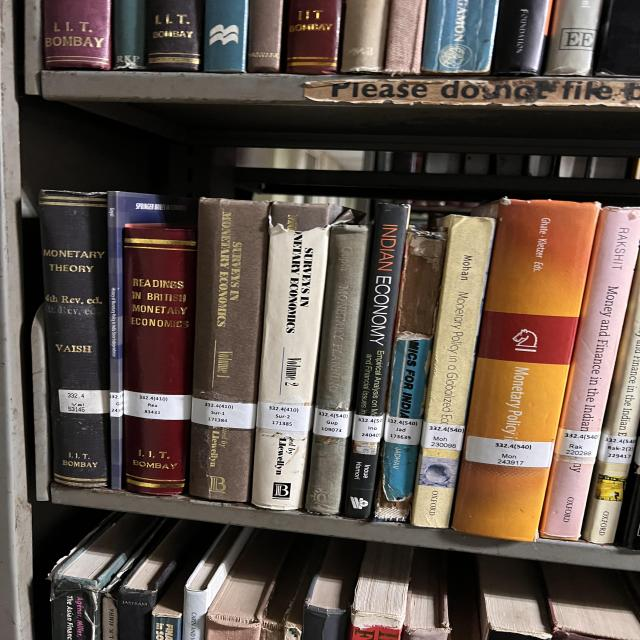Book: (453, 199, 600, 541), (540, 208, 640, 540), (107, 191, 197, 490), (412, 215, 495, 529), (188, 198, 270, 502), (252, 224, 330, 510), (343, 204, 410, 519), (40, 190, 110, 488), (123, 224, 197, 495), (305, 224, 370, 514), (382, 229, 447, 505), (582, 262, 640, 544)
Label: (465, 435, 553, 468), (123, 390, 192, 420), (192, 398, 257, 429), (257, 402, 313, 432), (555, 429, 602, 459), (58, 389, 110, 414), (422, 422, 465, 451), (313, 408, 353, 438), (598, 434, 637, 464), (383, 416, 422, 445), (352, 414, 385, 442), (110, 392, 123, 418)
